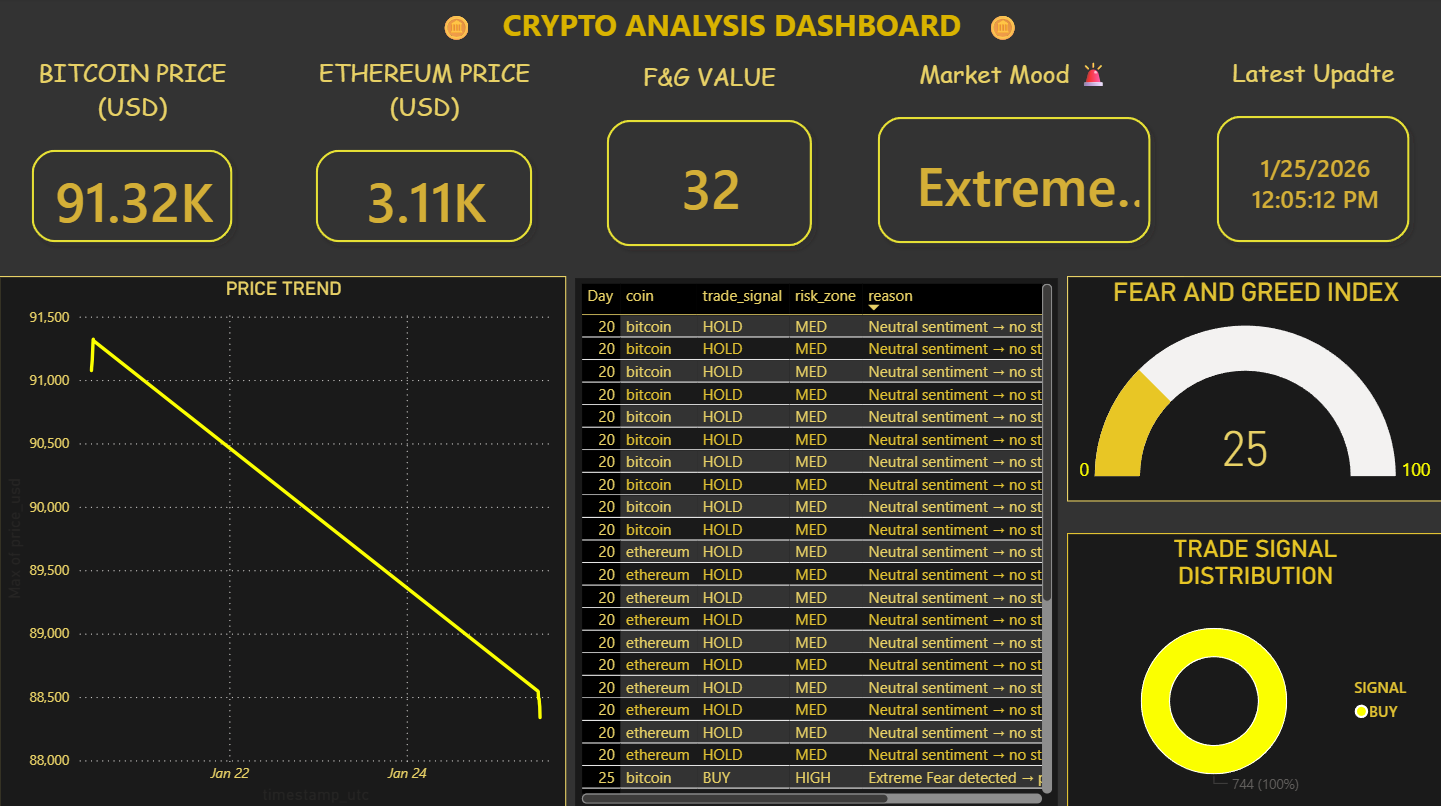

The dashboard page shown, as its layout file describes it:
{"tool":"powerbi","page":{"name":"Market Overview","canvas":[1280,720],"ordinal":0},"visuals":[{"type":"textbox","box":[306.4,0,888,49.6],"z":0},{"type":"cardVisual","title":"BITCOIN PRICE (USD)","fields":{"Data":["Max(vw_market_dashboard.price_usd)"]},"box":[0,50.5,236.7,196],"z":1000},{"type":"cardVisual","title":"ETHEREUM PRICE (USD)","fields":{"Data":["Max(vw_market_dashboard.price_usd)"]},"box":[251.8,50.5,250.9,196],"z":2000},{"type":"cardVisual","title":"F&G VALUE","fields":{"Data":["Max(vw_market_dashboard.fng_value)"]},"box":[509.9,54.1,240.3,196],"z":3000},{"type":"cardVisual","title":"Market Mood 🚨","fields":{"Data":["Min(vw_market_dashboard.fng_classification)"]},"box":[750.1,51.4,300.6,196],"z":4000},{"type":"lineChart","title":"PRICE TREND","fields":{"Y":["Max(vw_market_dashboard.price_usd)"],"Category":["vw_market_dashboard.timestamp_utc"]},"box":[0,246.5,502.8,473.5],"z":4001},{"type":"gauge","title":"FEAR AND GREED INDEX","fields":{"Y":["vw_latest_alerts.Latest FNG Value"]},"box":[947,246.5,333.4,200.4],"z":4002},{"type":"donutChart","title":"TRADE SIGNAL DISTRIBUTION","fields":{"Category":["vw_latest_alerts.trade_signal"],"Y":["Sum(vw_latest_alerts.id)"]},"box":[947.4,474.7,332.6,244.1],"z":4003},{"type":"tableEx","fields":{"Values":["vw_latest_alerts.timestamp_utc.Variation.Date Hierarchy.Day","vw_latest_alerts.coin","vw_latest_alerts.trade_signal","vw_latest_alerts.risk_zone","vw_latest_alerts.reason","vw_latest_alerts.price_usd"]},"box":[509.9,247.4,430,472.6],"z":4004},{"type":"cardVisual","title":"Latest Upadte","fields":{"Data":["vw_latest_alerts.Last Updated"]},"box":[1050.7,50.5,229.7,196],"z":4005}]}

Visuals, with their boxes in screenshot pixels (x1, y1, x2, y2), scaled from the page's 1280x720 canvas onto the 1441x806 screenshot:
textbox: 345/0/1345/56
"BITCOIN PRICE (USD)" cardVisual: 0/57/266/276
"ETHEREUM PRICE (USD)" cardVisual: 283/57/566/276
"F&G VALUE" cardVisual: 574/61/845/280
"Market Mood 🚨" cardVisual: 844/58/1183/277
"PRICE TREND" lineChart: 0/276/566/805
"FEAR AND GREED INDEX" gauge: 1066/276/1440/500
"TRADE SIGNAL DISTRIBUTION" donutChart: 1067/531/1440/805
tableEx - vw_latest_alerts.timestamp_utc.Variation.Date Hierarchy.Day x vw_latest_alerts.coin: 574/277/1058/805
"Latest Upadte" cardVisual: 1183/57/1440/276
